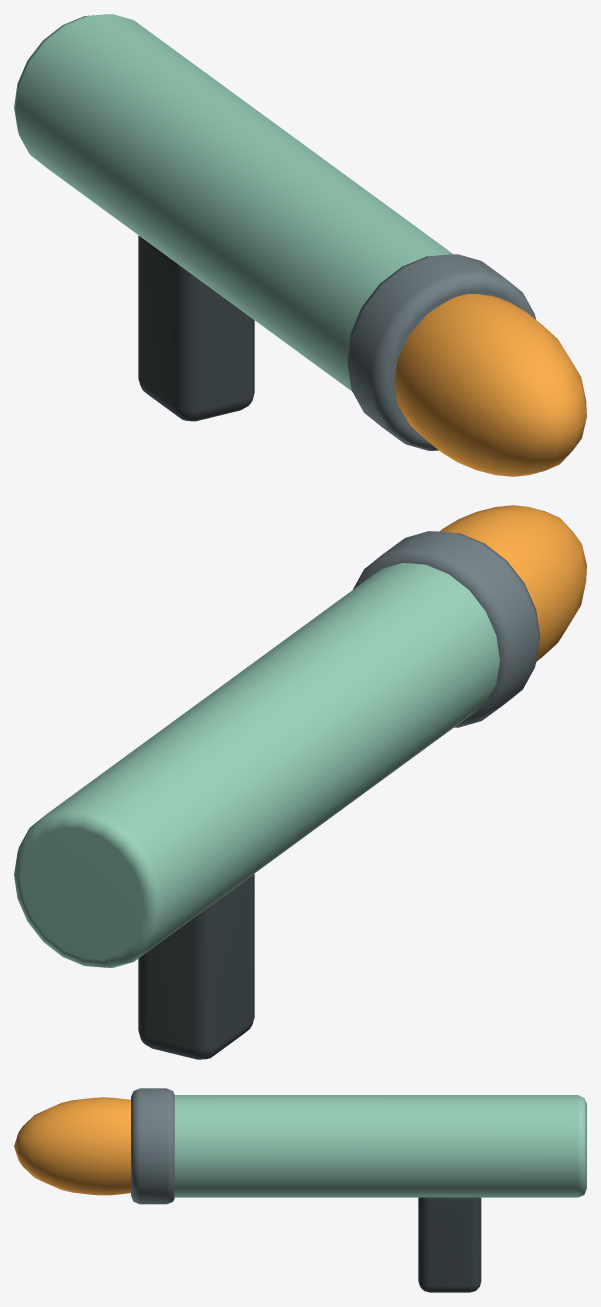
Rendered from weapon_rpg.glb.
3 renders of one model, top to bottom at view 1: azimuth 30°, elevation 25°; view 2: azimuth 150°, elevation 25°; view 3: azimuth 270°, elevation 25°, orthographic. The views are drawn at different scales.
Parts seen in each view (by area): view 1: Launcher tube, Rocket nose.001, Launcher grip, Launcher mouth; view 2: Launcher tube, Launcher grip, Launcher mouth, Rocket nose.001; view 3: Launcher tube, Rocket nose.001, Launcher grip, Launcher mouth.
Boxes of the visible parts, x1,y1,x2,y2 form: Launcher tube: (14, 14, 452, 391); Rocket nose.001: (394, 294, 586, 476); Launcher grip: (138, 235, 254, 421); Launcher mouth: (346, 254, 536, 450); Launcher tube: (14, 563, 499, 967); Launcher grip: (138, 874, 254, 1059); Launcher mouth: (353, 531, 540, 727); Rocket nose.001: (439, 505, 586, 661); Launcher tube: (174, 1095, 586, 1197); Rocket nose.001: (14, 1097, 130, 1195); Launcher grip: (418, 1197, 481, 1292); Launcher mouth: (131, 1088, 174, 1204).
Size of the model in its own units: 0.26 by 0.47 by 1.27.
